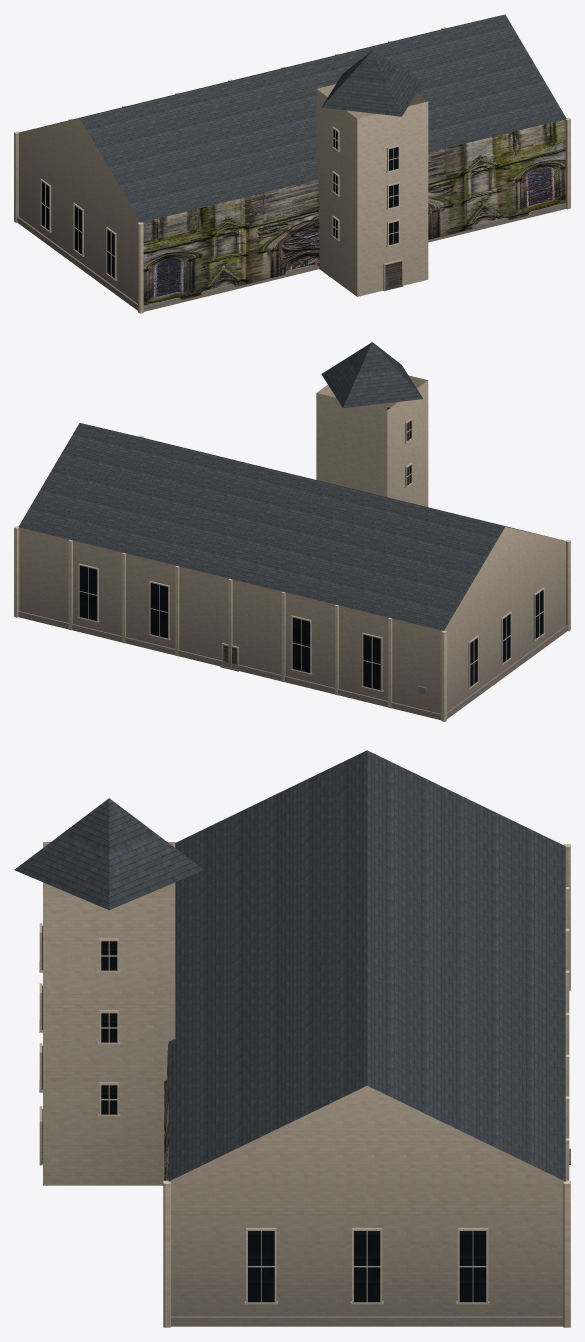
File: old-cathedral_lod0.gltf
The picture shows the model from 3 angles, top to bottom: view 1: azimuth 30°, elevation 25°; view 2: azimuth 150°, elevation 25°; view 3: azimuth 270°, elevation 25°; orthographic projection. The views are drawn at different scales.
Visible parts, largest first — view 1: old-cathedral_roof, old-cathedral_front, old-cathedral_tower, old-cathedral_nave, old-cathedral__v4_stone_detail, old-cathedral_spire, old-cathedral_gable_ends, old-cathedral_fen_04-limestone_0, old-cathedral_fen_07-glass-curtain-blue_4_t; view 2: old-cathedral_roof, old-cathedral_nave, old-cathedral_tower, old-cathedral__v4_stone_detail, old-cathedral_fen_07-glass-curtain-blue_4_t, old-cathedral_spire, old-cathedral_gable_ends, old-cathedral_fen_04-limestone_0; view 3: old-cathedral_roof, old-cathedral_nave, old-cathedral_tower, old-cathedral_gable_ends, old-cathedral_spire, old-cathedral__v4_stone_detail, old-cathedral_fen_07-glass-curtain-blue_4_t, old-cathedral_fen_04-limestone_0.
Boxes of the visible parts, bbox=[...] form: old-cathedral_roof: bbox=[30, 14, 566, 222]; old-cathedral_front: bbox=[142, 120, 565, 305]; old-cathedral_tower: bbox=[316, 84, 428, 296]; old-cathedral_nave: bbox=[19, 119, 565, 303]; old-cathedral__v4_stone_detail: bbox=[14, 27, 570, 313]; old-cathedral_spire: bbox=[321, 50, 423, 116]; old-cathedral_gable_ends: bbox=[18, 118, 140, 222]; old-cathedral_fen_04-limestone_0: bbox=[39, 126, 403, 291]; old-cathedral_fen_07-glass-curtain-blue_4_t: bbox=[41, 129, 398, 278]; old-cathedral_roof: bbox=[18, 423, 551, 630]; old-cathedral_nave: bbox=[19, 527, 565, 713]; old-cathedral_tower: bbox=[316, 375, 428, 506]; old-cathedral__v4_stone_detail: bbox=[14, 435, 570, 721]; old-cathedral_fen_07-glass-curtain-blue_4_t: bbox=[79, 407, 543, 690]; old-cathedral_spire: bbox=[321, 342, 422, 407]; old-cathedral_gable_ends: bbox=[444, 526, 566, 630]; old-cathedral_fen_04-limestone_0: bbox=[77, 418, 545, 692]; old-cathedral_roof: bbox=[168, 750, 565, 1181]; old-cathedral_nave: bbox=[171, 1181, 563, 1316]; old-cathedral_tower: bbox=[43, 842, 175, 1185]; old-cathedral_gable_ends: bbox=[169, 1086, 564, 1181]; old-cathedral_spire: bbox=[14, 798, 203, 909]; old-cathedral__v4_stone_detail: bbox=[163, 844, 570, 1327]; old-cathedral_fen_07-glass-curtain-blue_4_t: bbox=[42, 925, 486, 1302]; old-cathedral_fen_04-limestone_0: bbox=[39, 923, 568, 1304].
Bounding box in the file's own units: 60.82 × 30.02 × 42.11.
